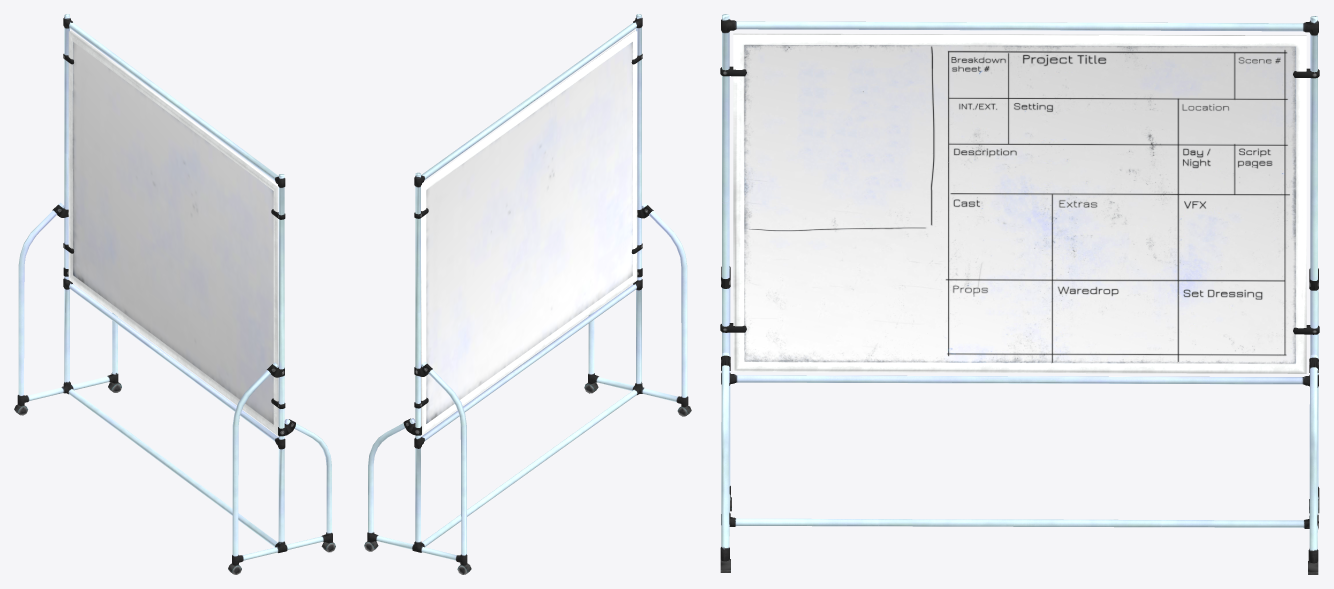
Rendered from whiteboard.glb.
3 views of the same model, side by side, from view 1: azimuth 30°, elevation 25°; view 2: azimuth 150°, elevation 25°; view 3: azimuth 270°, elevation 25° (orthographic). The views are drawn at different scales.
Visible parts, largest first — view 1: Schedule_Board_01a; view 2: Schedule_Board_01a; view 3: Schedule_Board_01a.
Part boxes in pixels (x1,y1,x2,y2): Schedule_Board_01a: (14,14,335,574); Schedule_Board_01a: (364,14,691,574); Schedule_Board_01a: (720,14,1319,574).
Size of the model in its own units: 0.5057 by 1.75 by 1.81.
Materials: 1 (1 with a texture image).
